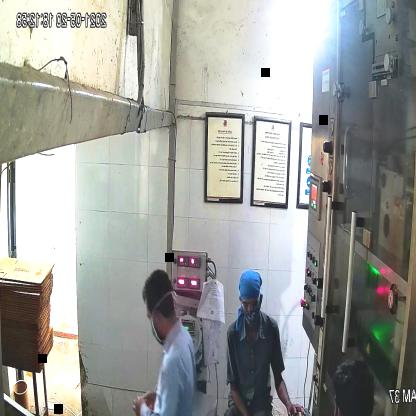goggles: (239, 286, 266, 313)
